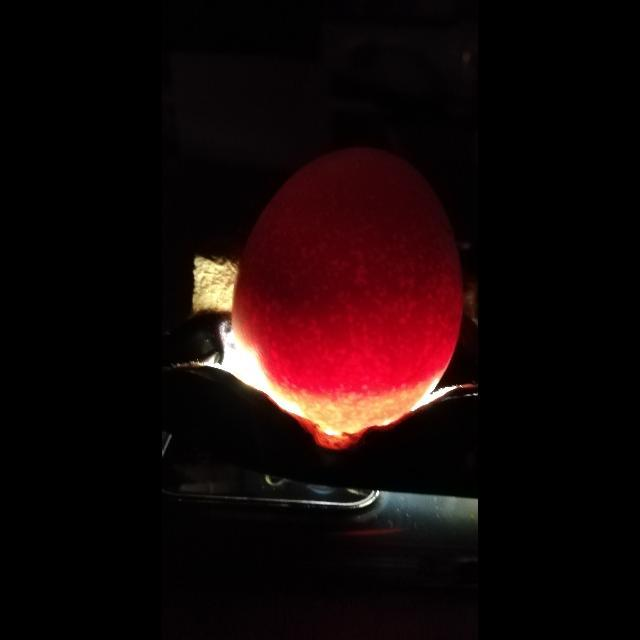Fertile: (222, 143, 462, 433)
